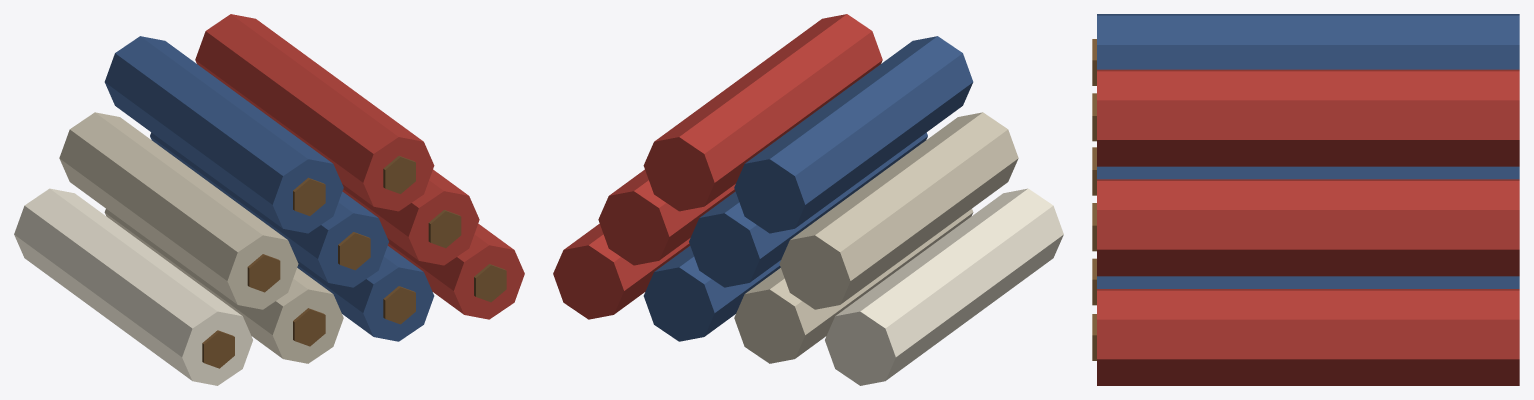
File: pile_linen_3.glb
The picture shows the model from 3 angles, left to right: view 1: azimuth 30°, elevation 25°; view 2: azimuth 150°, elevation 25°; view 3: azimuth 270°, elevation 25°; orthographic projection. The views are drawn at different scales.
Parts seen in each view (by area): view 1: pile_linen_3; view 2: pile_linen_3; view 3: pile_linen_3.
Boxes of the visible parts, x1,y1,x2,y2 form: pile_linen_3: [14, 14, 524, 385]; pile_linen_3: [553, 14, 1063, 385]; pile_linen_3: [1092, 14, 1519, 385].
Size of the model in its own units: 1.06 by 0.605 by 0.91.
